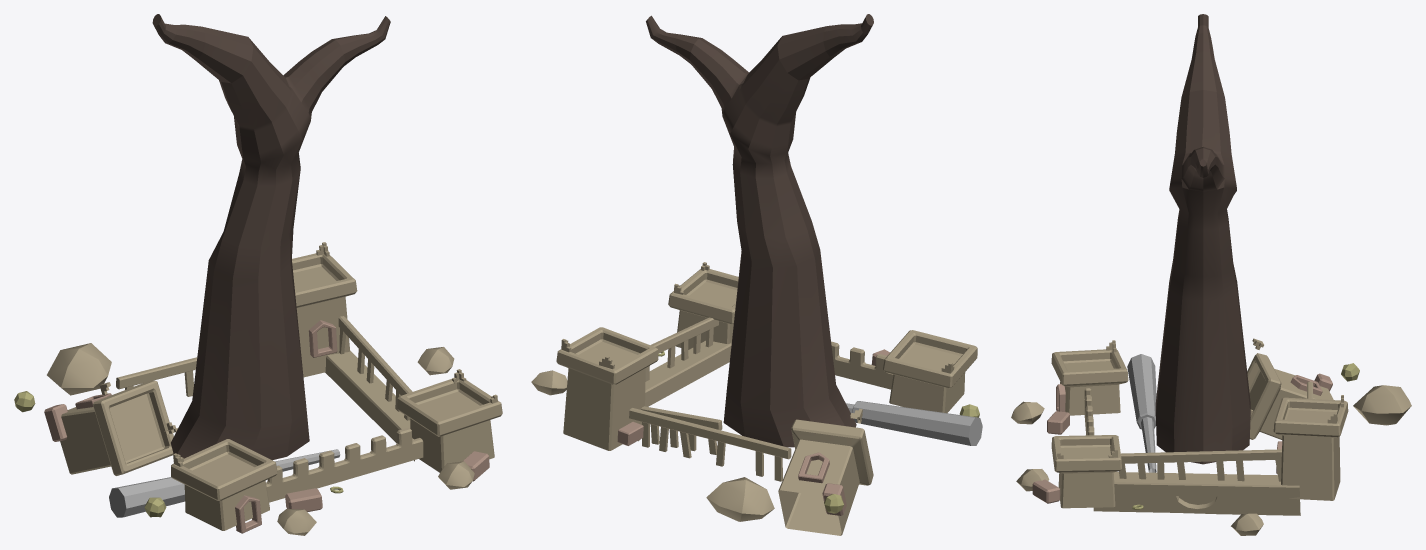
File: haikyou_siruku (1).fbx
3 renders of one model, left to right at view 1: azimuth 30°, elevation 25°; view 2: azimuth 150°, elevation 25°; view 3: azimuth 270°, elevation 25°, orthographic. The views are drawn at different scales.
Visible parts, largest first — view 1: isi_07; view 2: isi_07; view 3: isi_07.
Part boxes in pixels (x1,y1,x2,y2): isi_07: [14, 14, 502, 535]; isi_07: [531, 14, 982, 535]; isi_07: [1011, 14, 1411, 535].
Size of the model in its own units: 1206 by 1435 by 1212.
